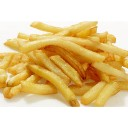frenchfries: (1, 18, 125, 104)
